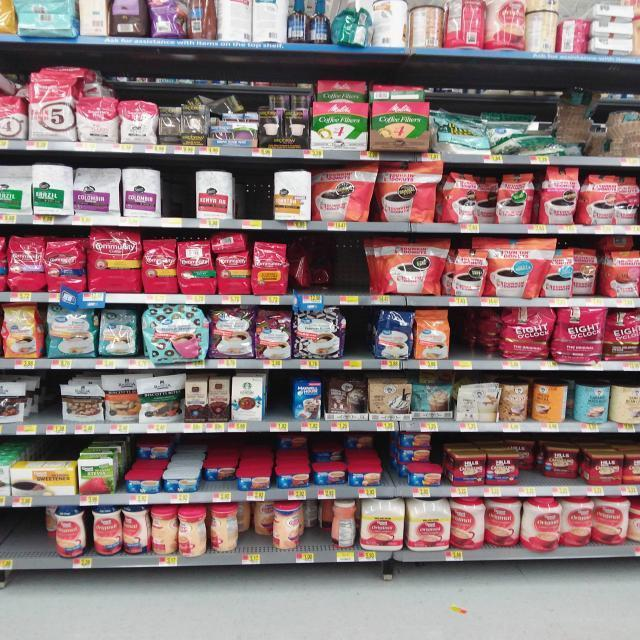empty: (1, 507, 42, 570), (238, 173, 272, 230), (162, 170, 194, 228), (335, 238, 362, 305), (344, 308, 370, 370), (270, 372, 292, 432), (452, 308, 472, 371), (42, 370, 61, 436)
